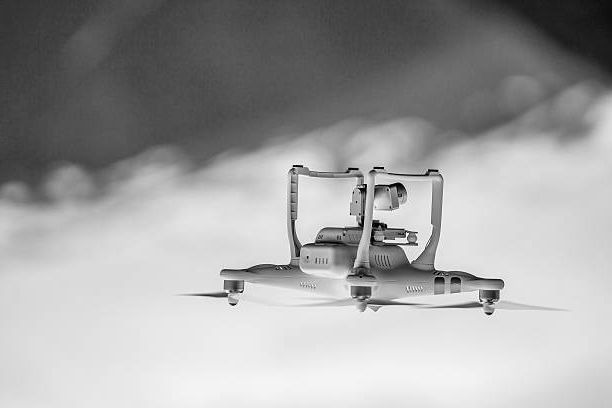Drone: (172, 161, 574, 323)
